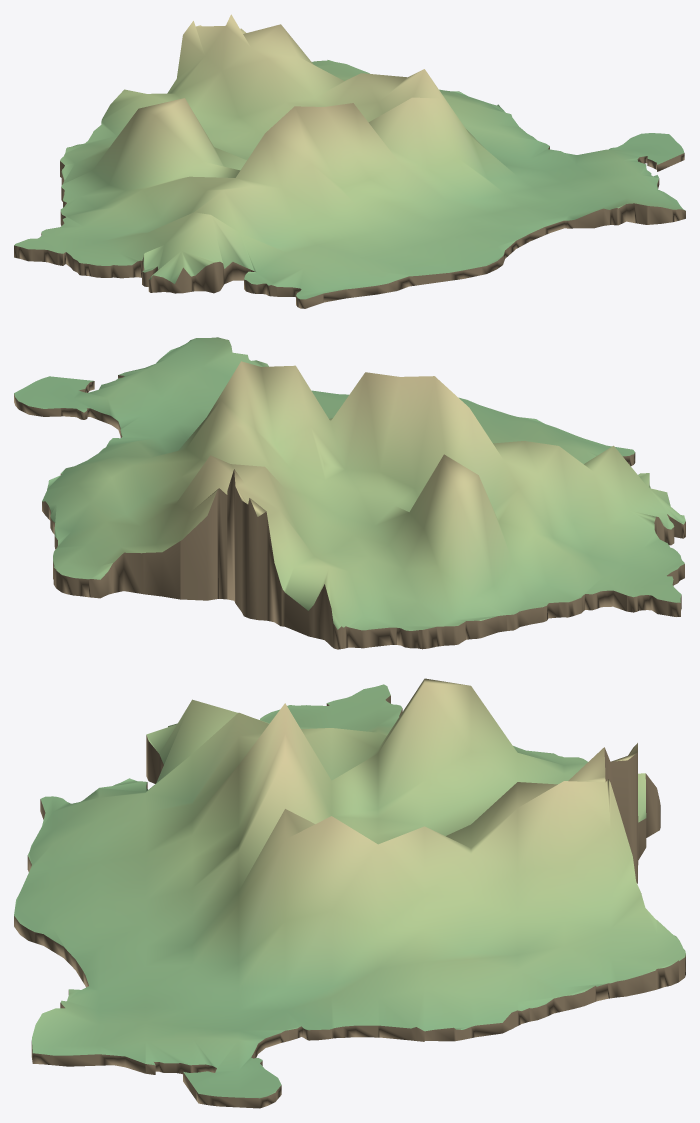
The model's file is ROU.glb.
3 renders of one model, top to bottom at view 1: azimuth 30°, elevation 25°; view 2: azimuth 150°, elevation 25°; view 3: azimuth 270°, elevation 25°, orthographic. The views are drawn at different scales.
Parts seen in each view (by area): view 1: ROU; view 2: ROU; view 3: ROU.
Boxes of the visible parts, x1,y1,x2,y2 form: ROU: [14, 14, 685, 308]; ROU: [14, 337, 685, 649]; ROU: [14, 678, 685, 1108].
Size of the model in its own units: 1.83 by 0.338 by 1.28.
